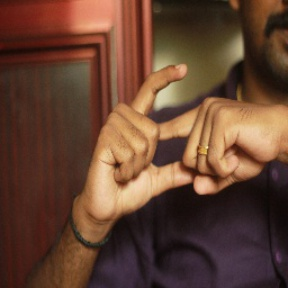E: (111, 63, 224, 194)
